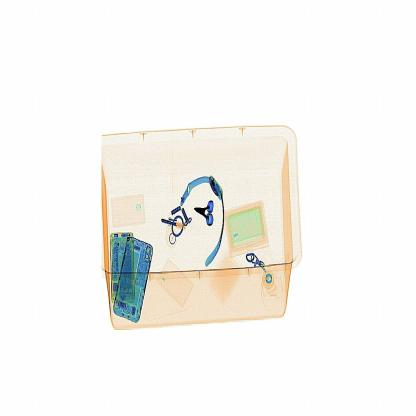gun: (190, 193, 221, 230)
